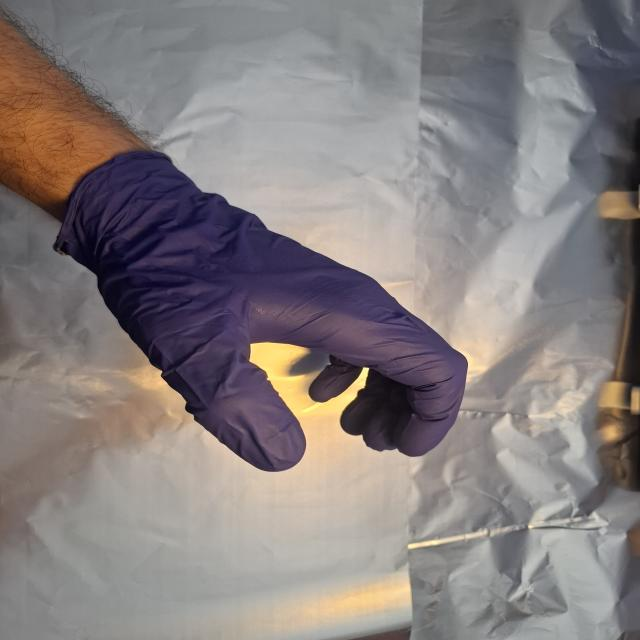glove_on: (50, 145, 467, 475)
